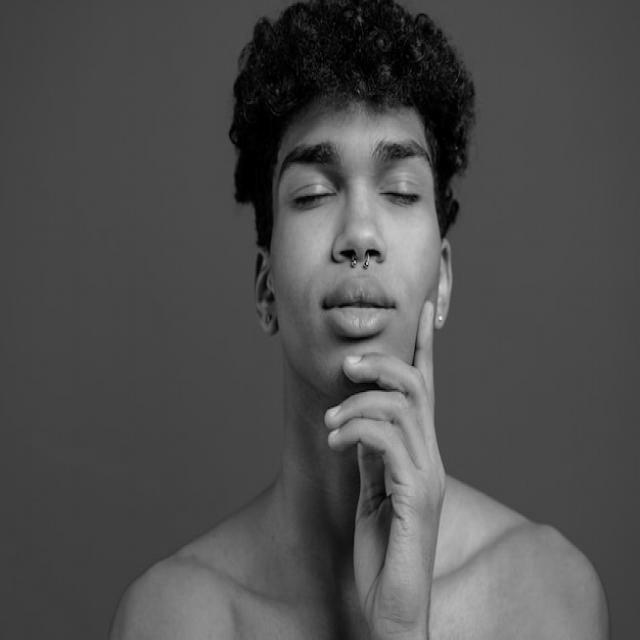real: (249, 105, 456, 405), (274, 139, 442, 225)
